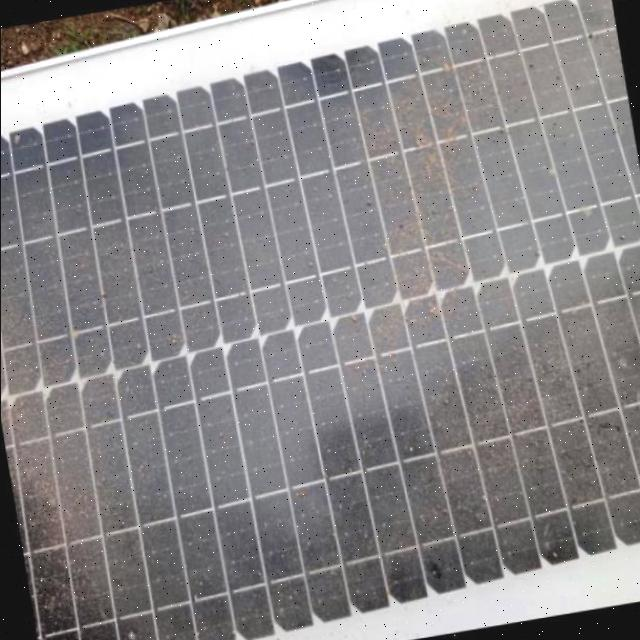Anomaly Solar Panel: (0, 5, 640, 640)
Surface Contaminant: (0, 13, 640, 640)
